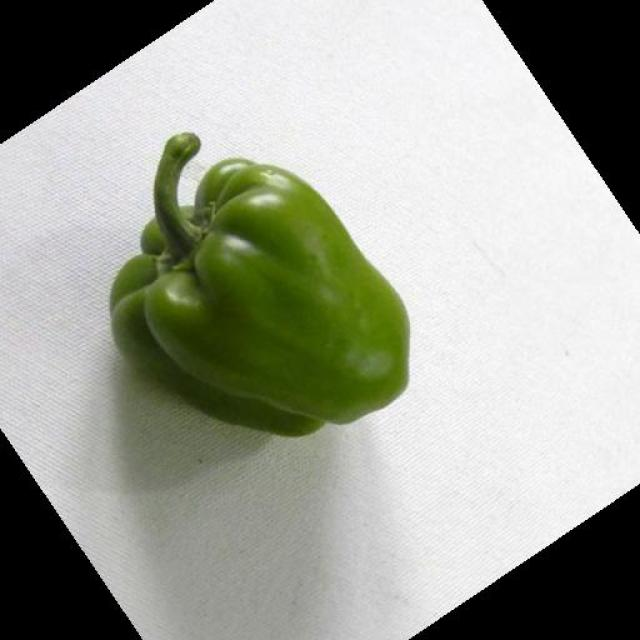Fresh_Capsicum: (90, 170, 437, 431)
